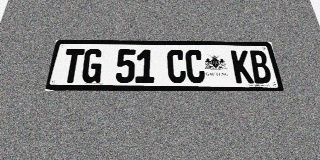1: (135, 49, 154, 83)
5: (115, 49, 136, 83)
B: (248, 50, 273, 83)
C: (185, 50, 206, 83), (167, 50, 186, 83)
G: (80, 49, 103, 83)
K: (230, 50, 254, 83)
T: (60, 49, 85, 83)
